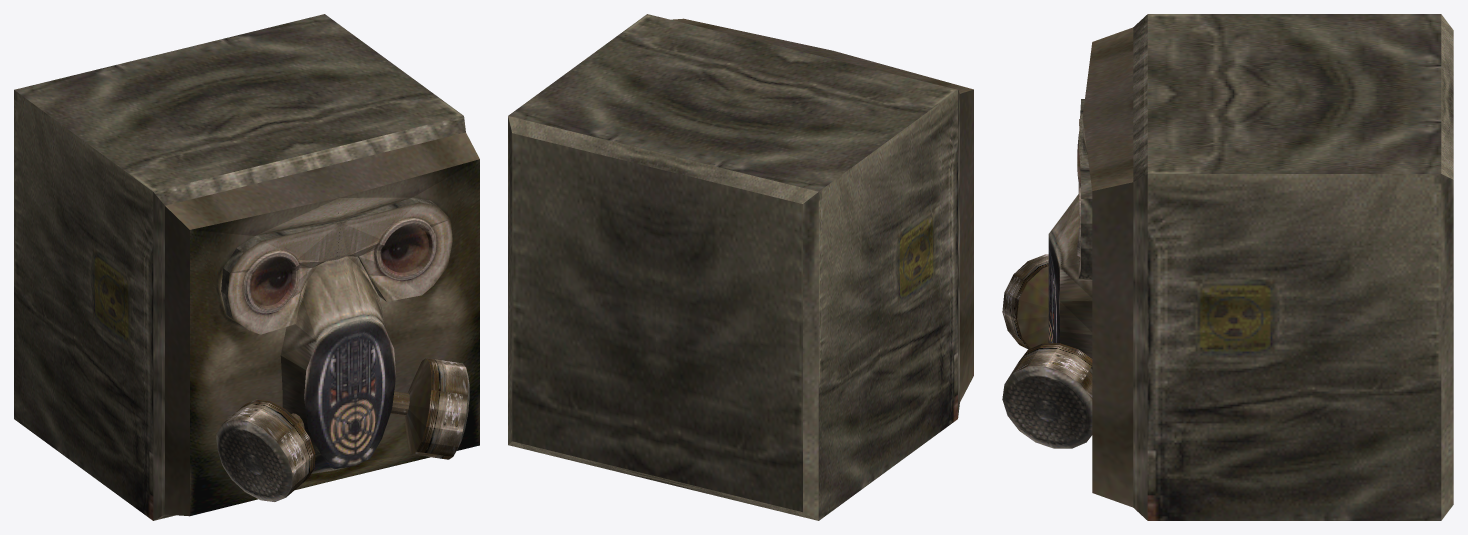
The model's file is arm_zarya_head.obj.
3 views of the same model, side by side, from view 1: azimuth 30°, elevation 25°; view 2: azimuth 150°, elevation 25°; view 3: azimuth 270°, elevation 25° (orthographic). The views are drawn at different scales.
Parts seen in each view (by area): view 1: Cube.001; view 2: Cube.001; view 3: Cube.001.
Part boxes in pixels (bbox=[...]): Cube.001: bbox=[14, 14, 479, 520]; Cube.001: bbox=[508, 14, 973, 520]; Cube.001: bbox=[1002, 14, 1453, 520].
Bounding box in the file's own units: 2.11 × 2.13 × 2.51.
